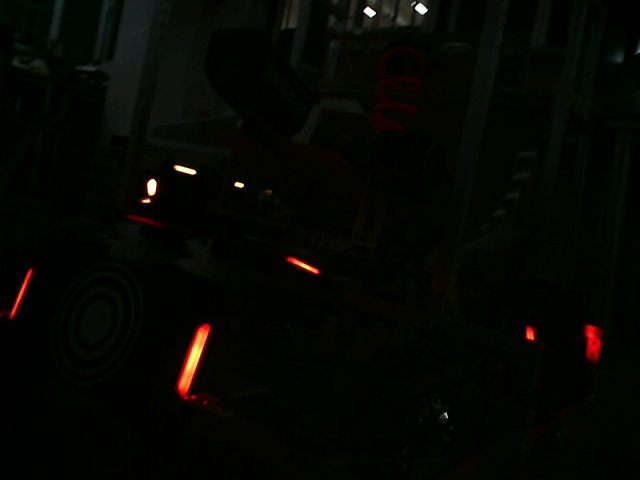lamp: (173, 320, 215, 400), (9, 263, 35, 321)
